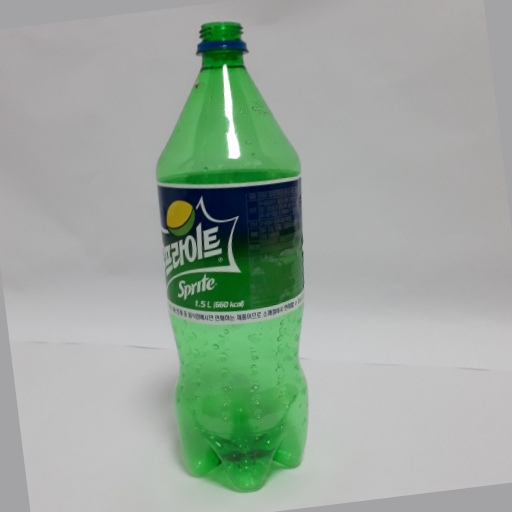Plastic_0: (151, 19, 315, 491)
